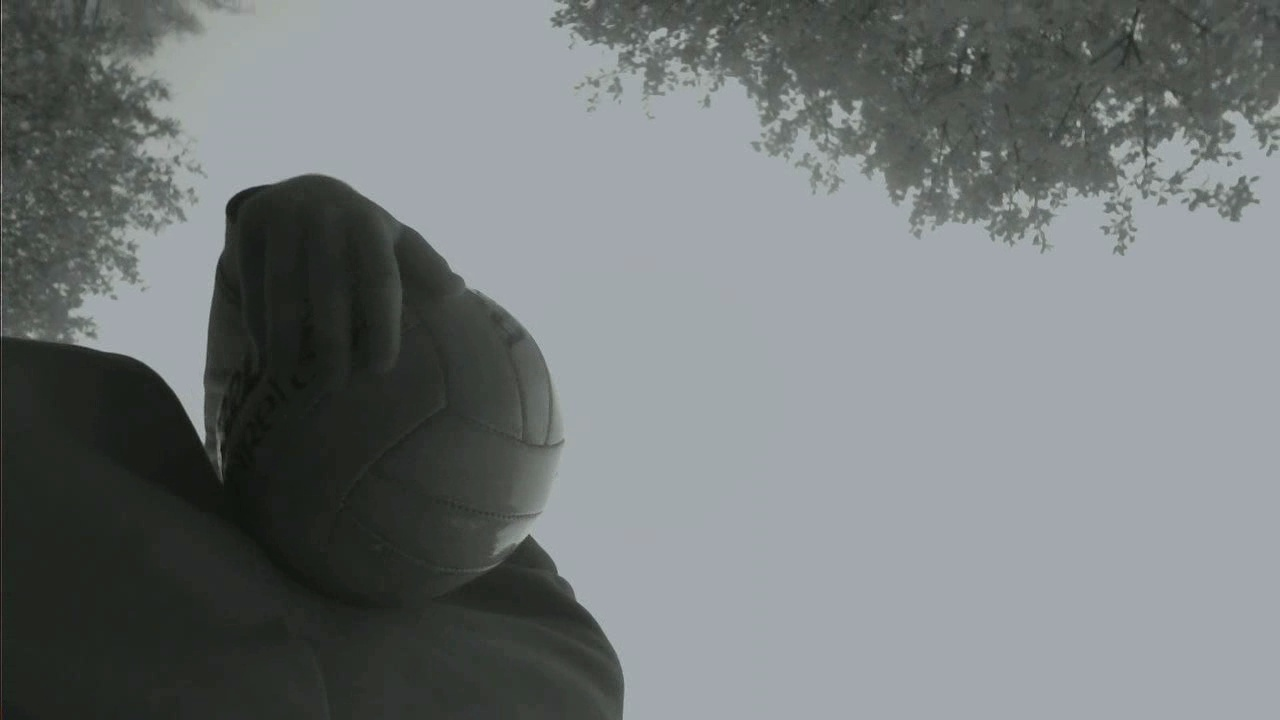Football-Spotter: (213, 231, 563, 605)
